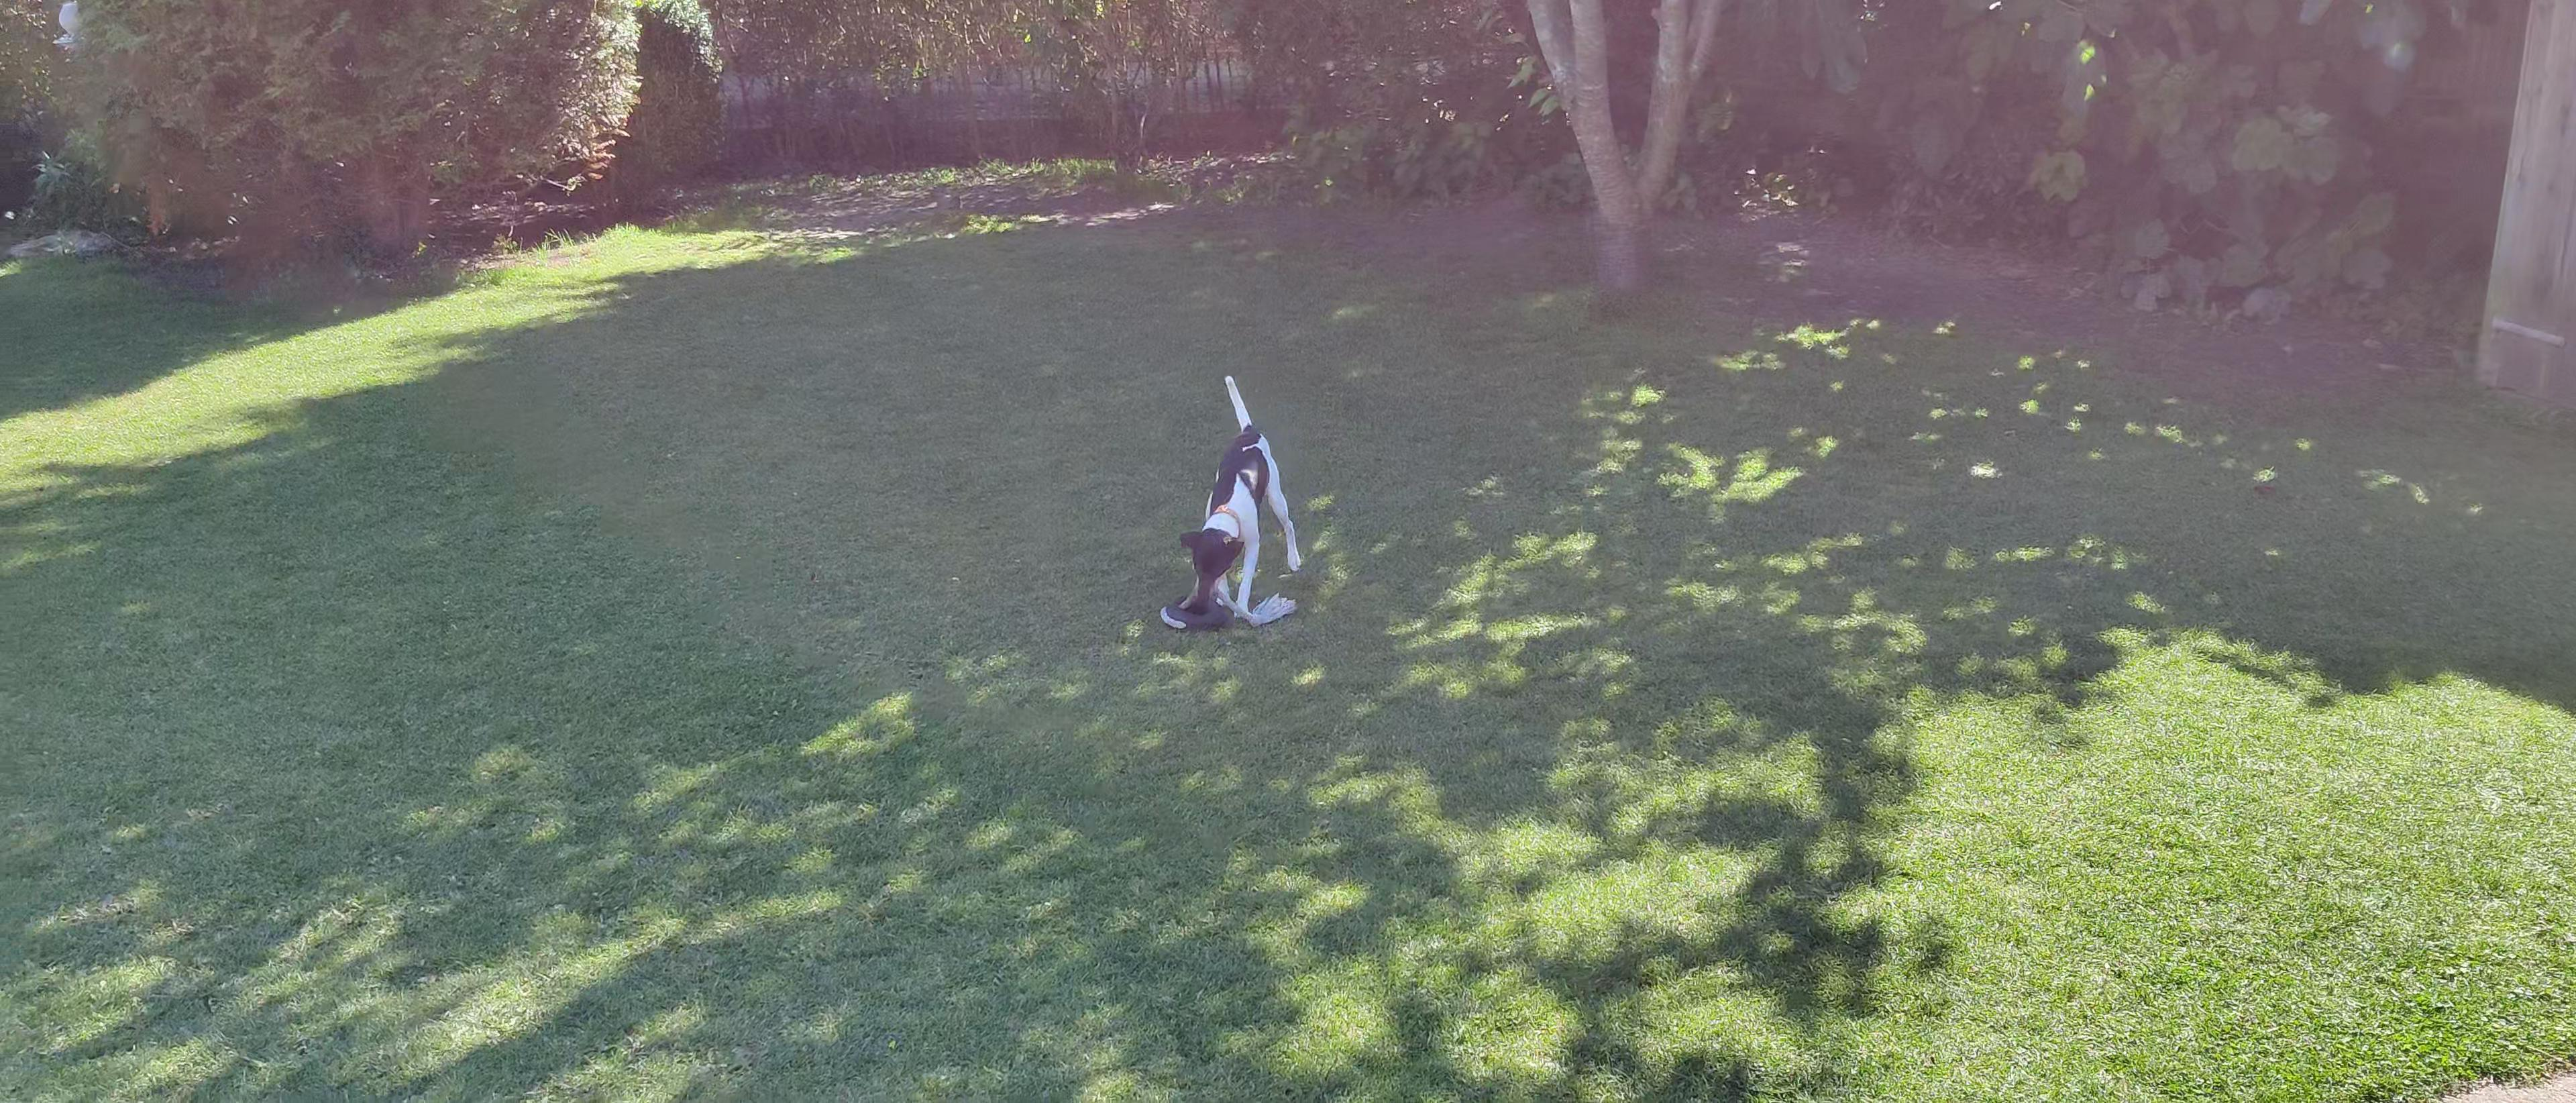Dog: (1176, 370, 1303, 620)
